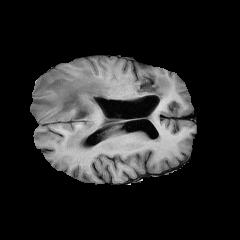glioma: (30, 68, 170, 149)
